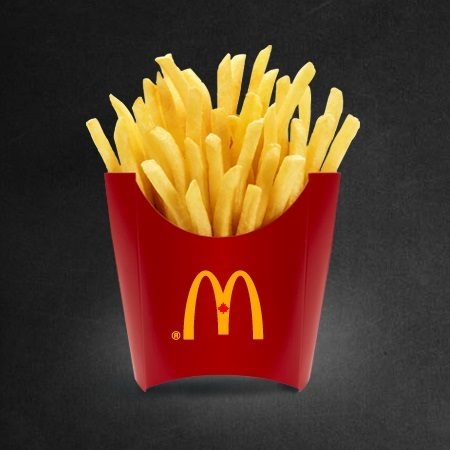mcdonalds: (176, 266, 272, 348)
